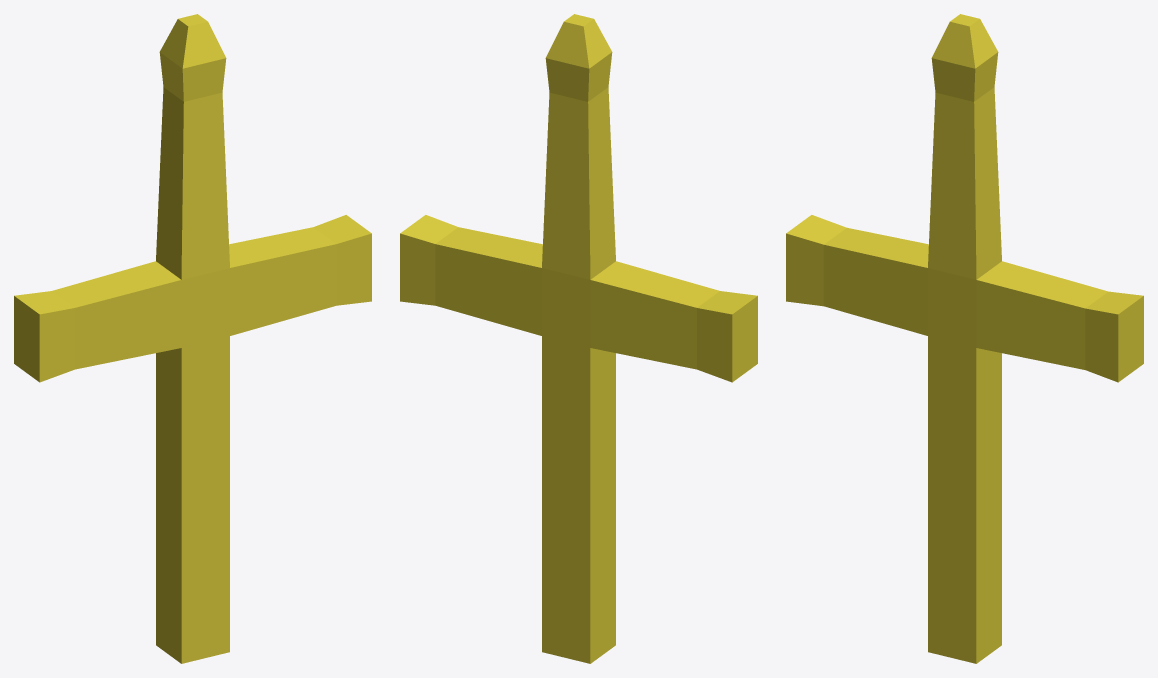
The model's file is Cruz.fbx.
3 views of the same model, side by side, from view 1: azimuth 30°, elevation 25°; view 2: azimuth 150°, elevation 25°; view 3: azimuth 330°, elevation 25° (orthographic).
Visible parts, largest first — view 1: Cruz; view 2: Cruz; view 3: Cruz.
Part boxes in pixels (x1,y1,x2,y2): Cruz: [14, 14, 371, 663]; Cruz: [400, 14, 757, 663]; Cruz: [786, 14, 1143, 663].
Bounding box in the file's own units: 124 × 225 × 16.61.
